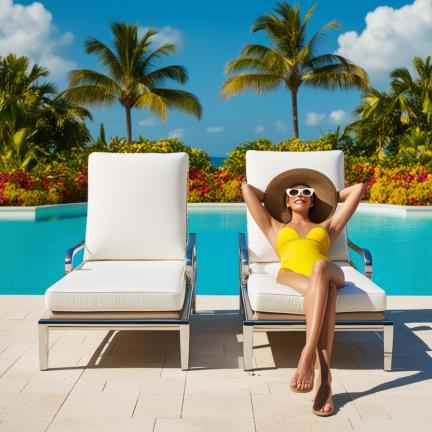empty chair: (39, 153, 197, 370)
guest on chair: (239, 150, 393, 416)
